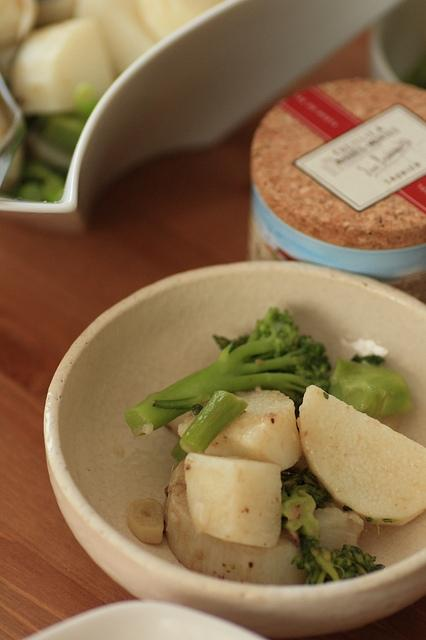broccoli: (125, 306, 331, 437), (326, 353, 412, 418), (292, 532, 384, 582), (178, 390, 248, 454), (282, 483, 334, 544)
potato: (163, 458, 308, 584), (297, 386, 426, 526), (178, 390, 303, 472), (184, 452, 282, 549), (313, 508, 364, 552)
